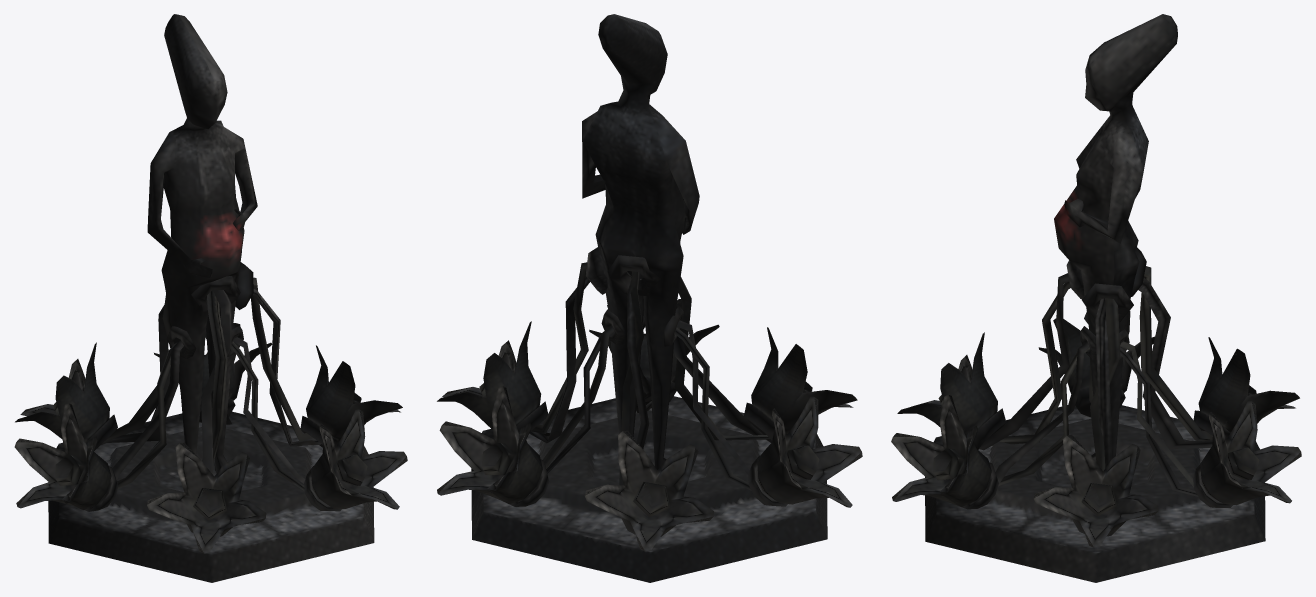
Rendered from SM_FountainOfLife.fbx.
The picture shows the model from 3 angles, left to right: view 1: azimuth 30°, elevation 25°; view 2: azimuth 150°, elevation 25°; view 3: azimuth 270°, elevation 25°; orthographic projection. The views are drawn at different scales.
Parts seen in each view (by area): view 1: pCylinder10; view 2: pCylinder10; view 3: pCylinder10.
Part boxes in pixels (<box>): pCylinder10: <box>14,14,407,582</box>; pCylinder10: <box>437,14,862,582</box>; pCylinder10: <box>891,14,1301,582</box>.
Bounding box in the file's own units: 73.57 × 86.6 × 66.35.
1 material, 1 textured.
